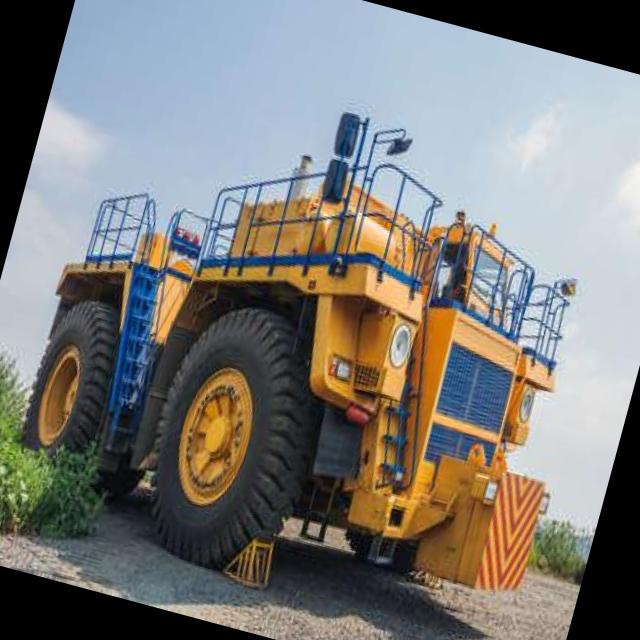Camion volquete: (0, 49, 636, 640)
